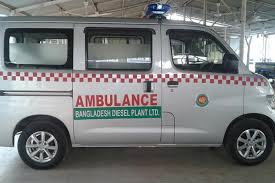ambulance: (1, 4, 275, 171)
